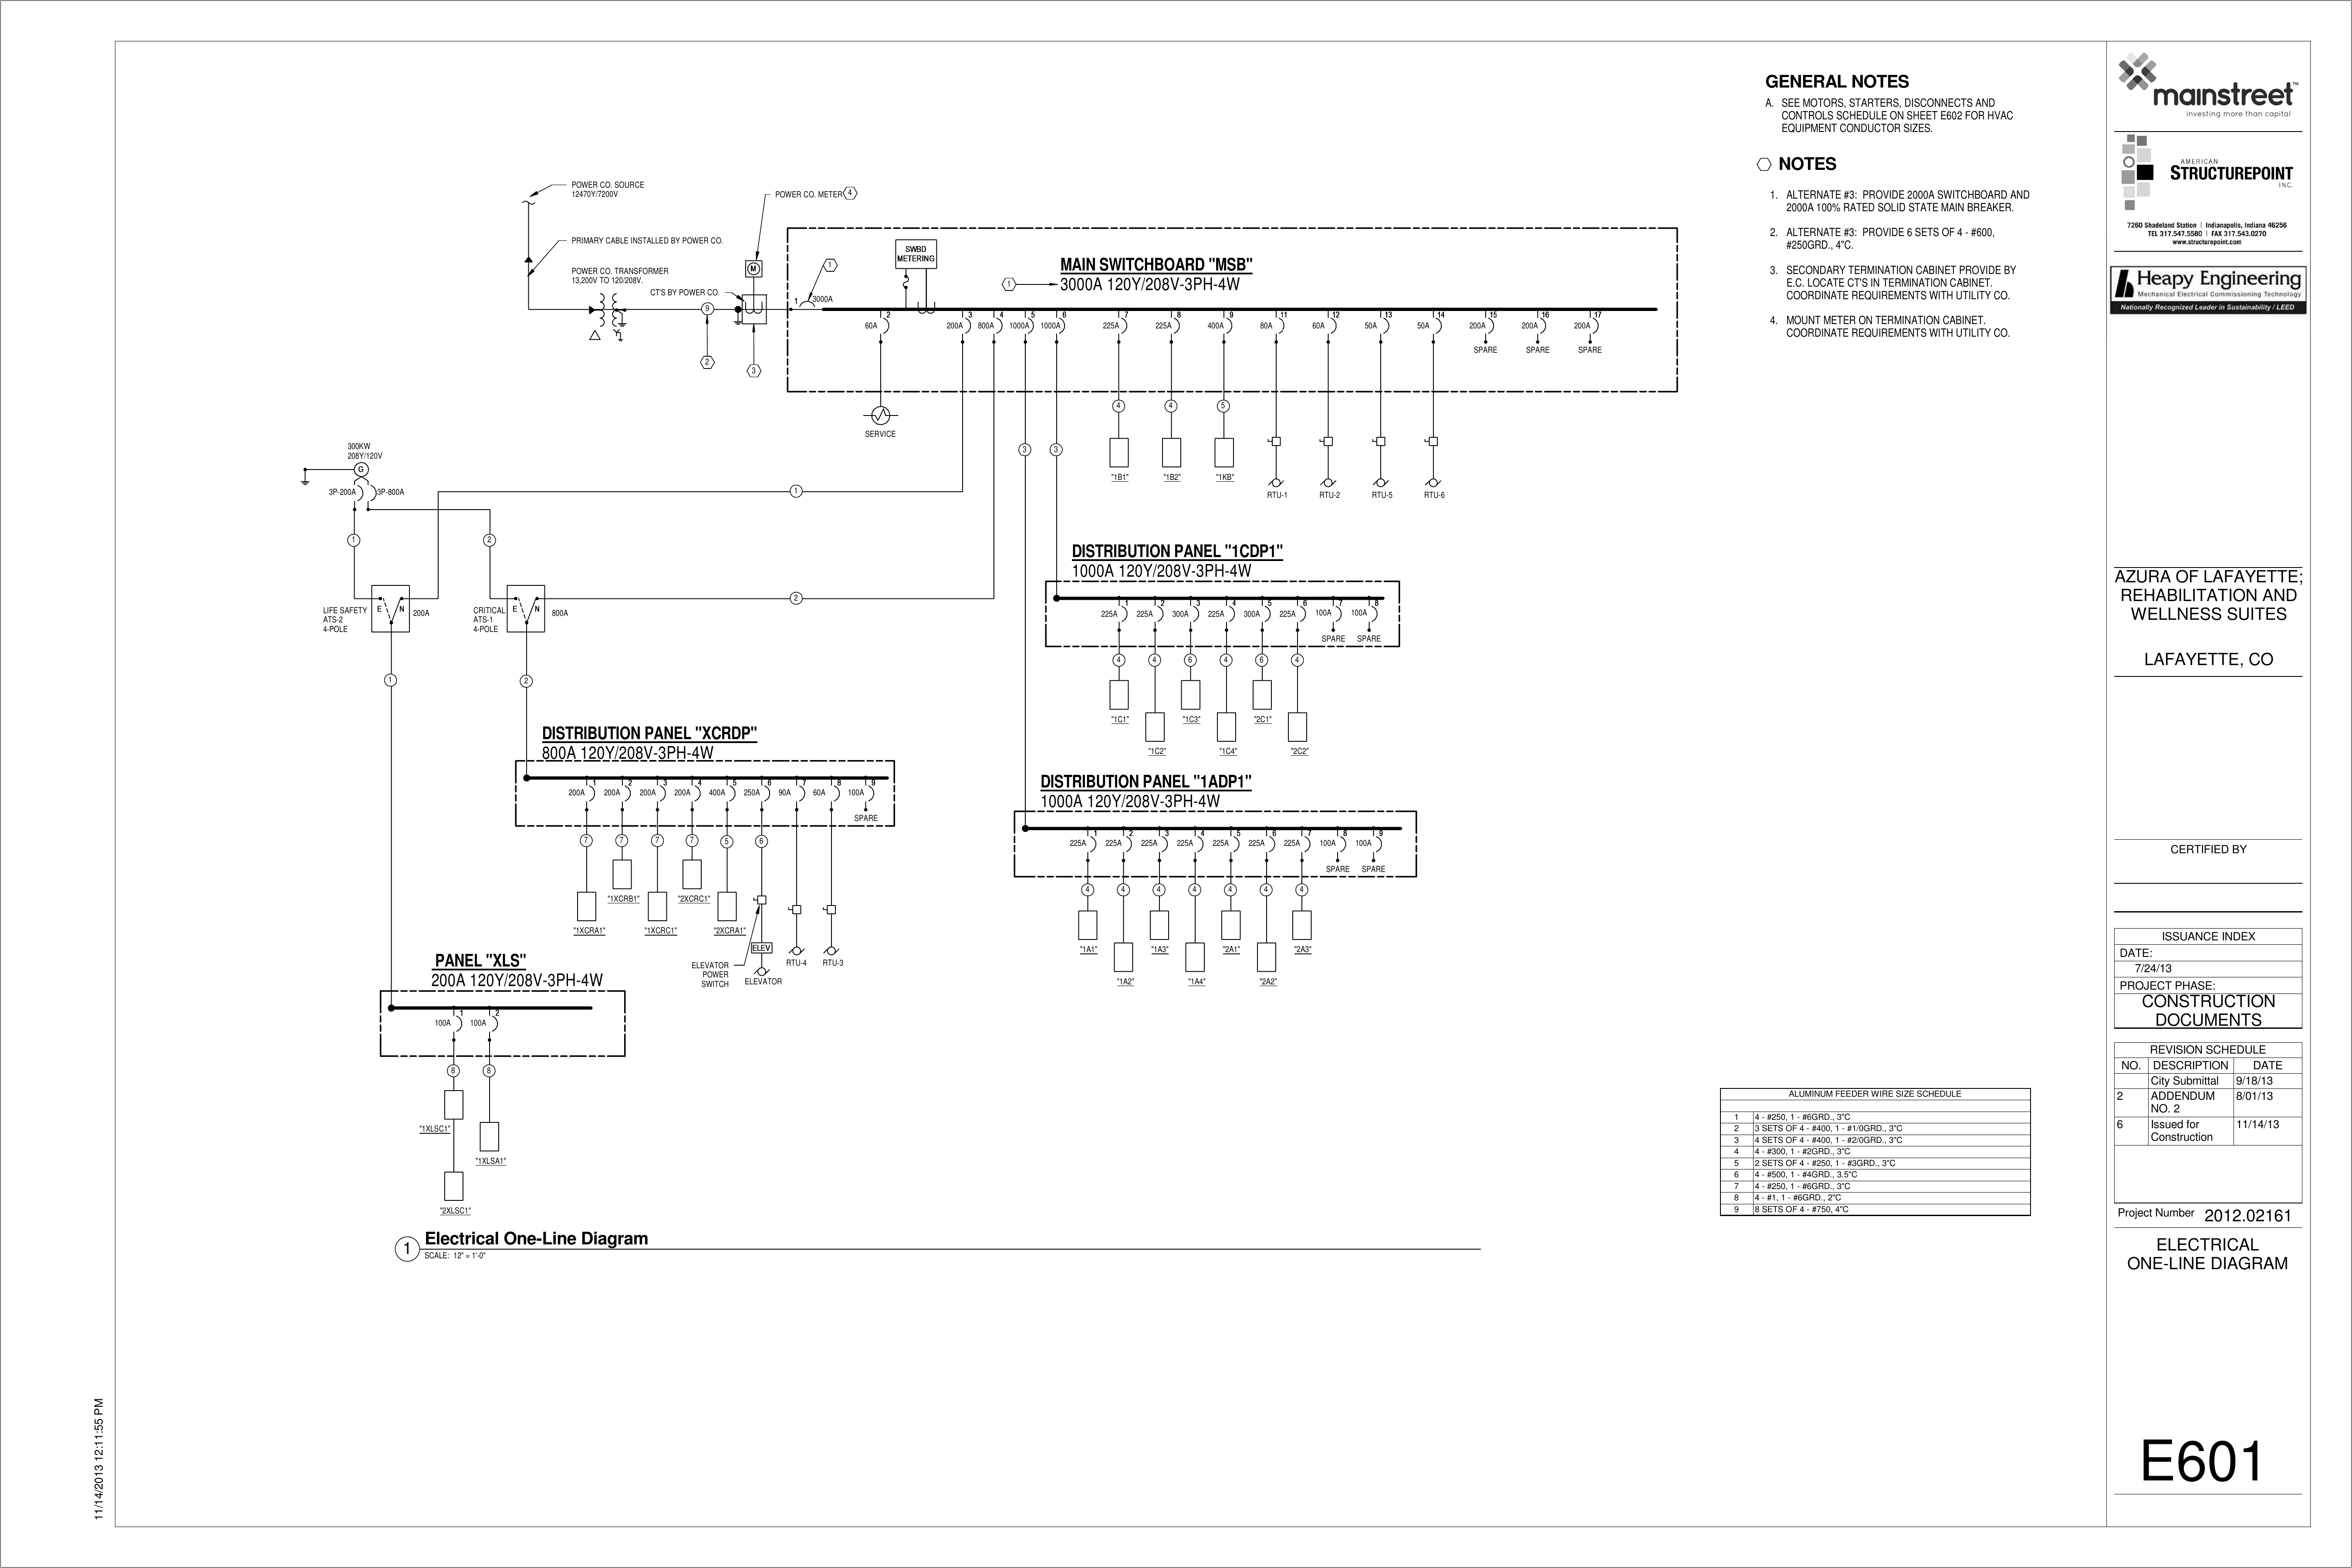circuit_breaker: (479, 1008, 503, 1044), (1109, 598, 1132, 631), (1580, 314, 1610, 338), (1080, 830, 1102, 864), (1164, 313, 1187, 343), (1267, 313, 1293, 339), (683, 781, 704, 814), (1151, 831, 1174, 861), (856, 781, 882, 807), (1114, 830, 1136, 860), (1214, 314, 1237, 342), (1323, 601, 1346, 629), (1187, 830, 1210, 858), (1294, 830, 1313, 863), (1477, 313, 1500, 340), (444, 1011, 465, 1041), (1224, 830, 1246, 859), (1365, 832, 1390, 857), (578, 777, 597, 810), (1049, 314, 1070, 343), (983, 311, 1004, 338), (1185, 601, 1206, 629), (1363, 603, 1385, 631), (1110, 313, 1132, 339), (1371, 313, 1392, 340), (1017, 312, 1037, 341), (871, 314, 894, 338), (1320, 314, 1339, 341), (1425, 314, 1446, 338), (347, 479, 365, 507), (1149, 599, 1166, 629), (792, 781, 808, 810), (1255, 602, 1274, 627), (365, 477, 381, 506), (1291, 603, 1310, 628), (1331, 832, 1348, 859), (791, 300, 822, 314), (1262, 830, 1277, 861), (652, 780, 669, 808), (1220, 602, 1237, 628), (721, 781, 738, 808), (1529, 313, 1548, 336), (616, 780, 631, 808), (755, 781, 773, 804), (824, 781, 842, 804), (956, 313, 972, 337)
ground: (292, 471, 315, 492)
transformer: (586, 280, 635, 351)
